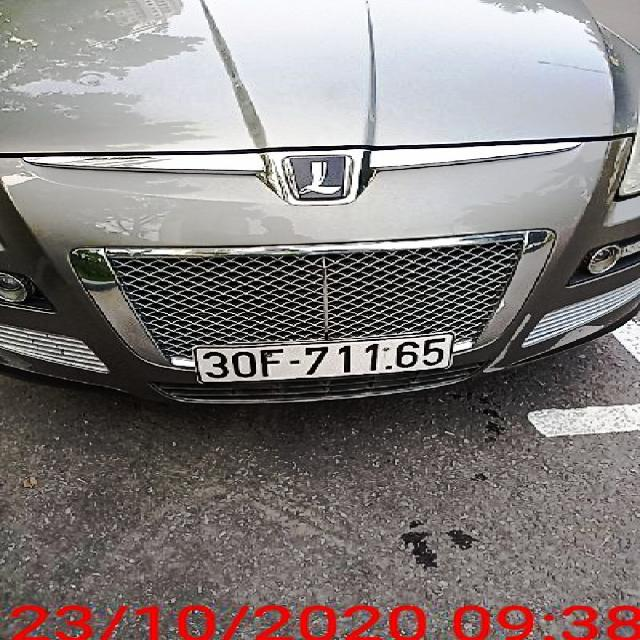license_plate: (195, 335, 454, 384)
